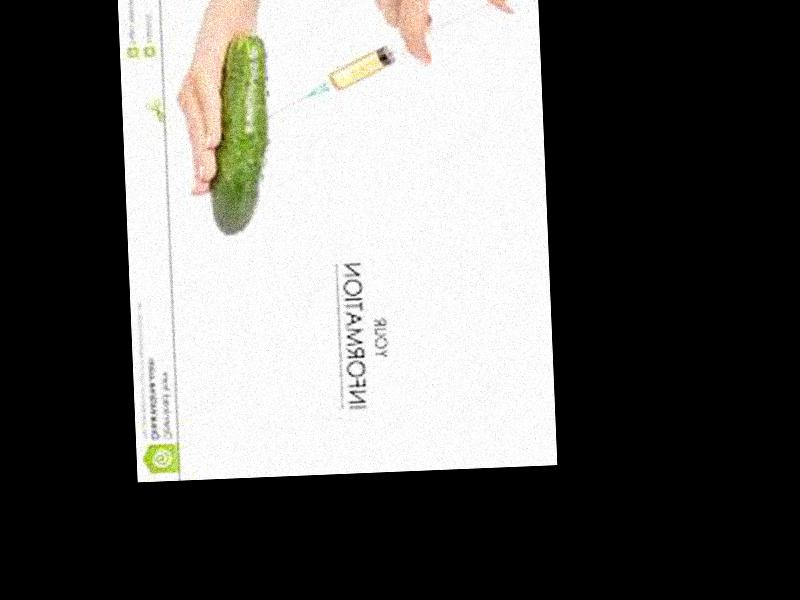Cucumber: (205, 33, 272, 235)
